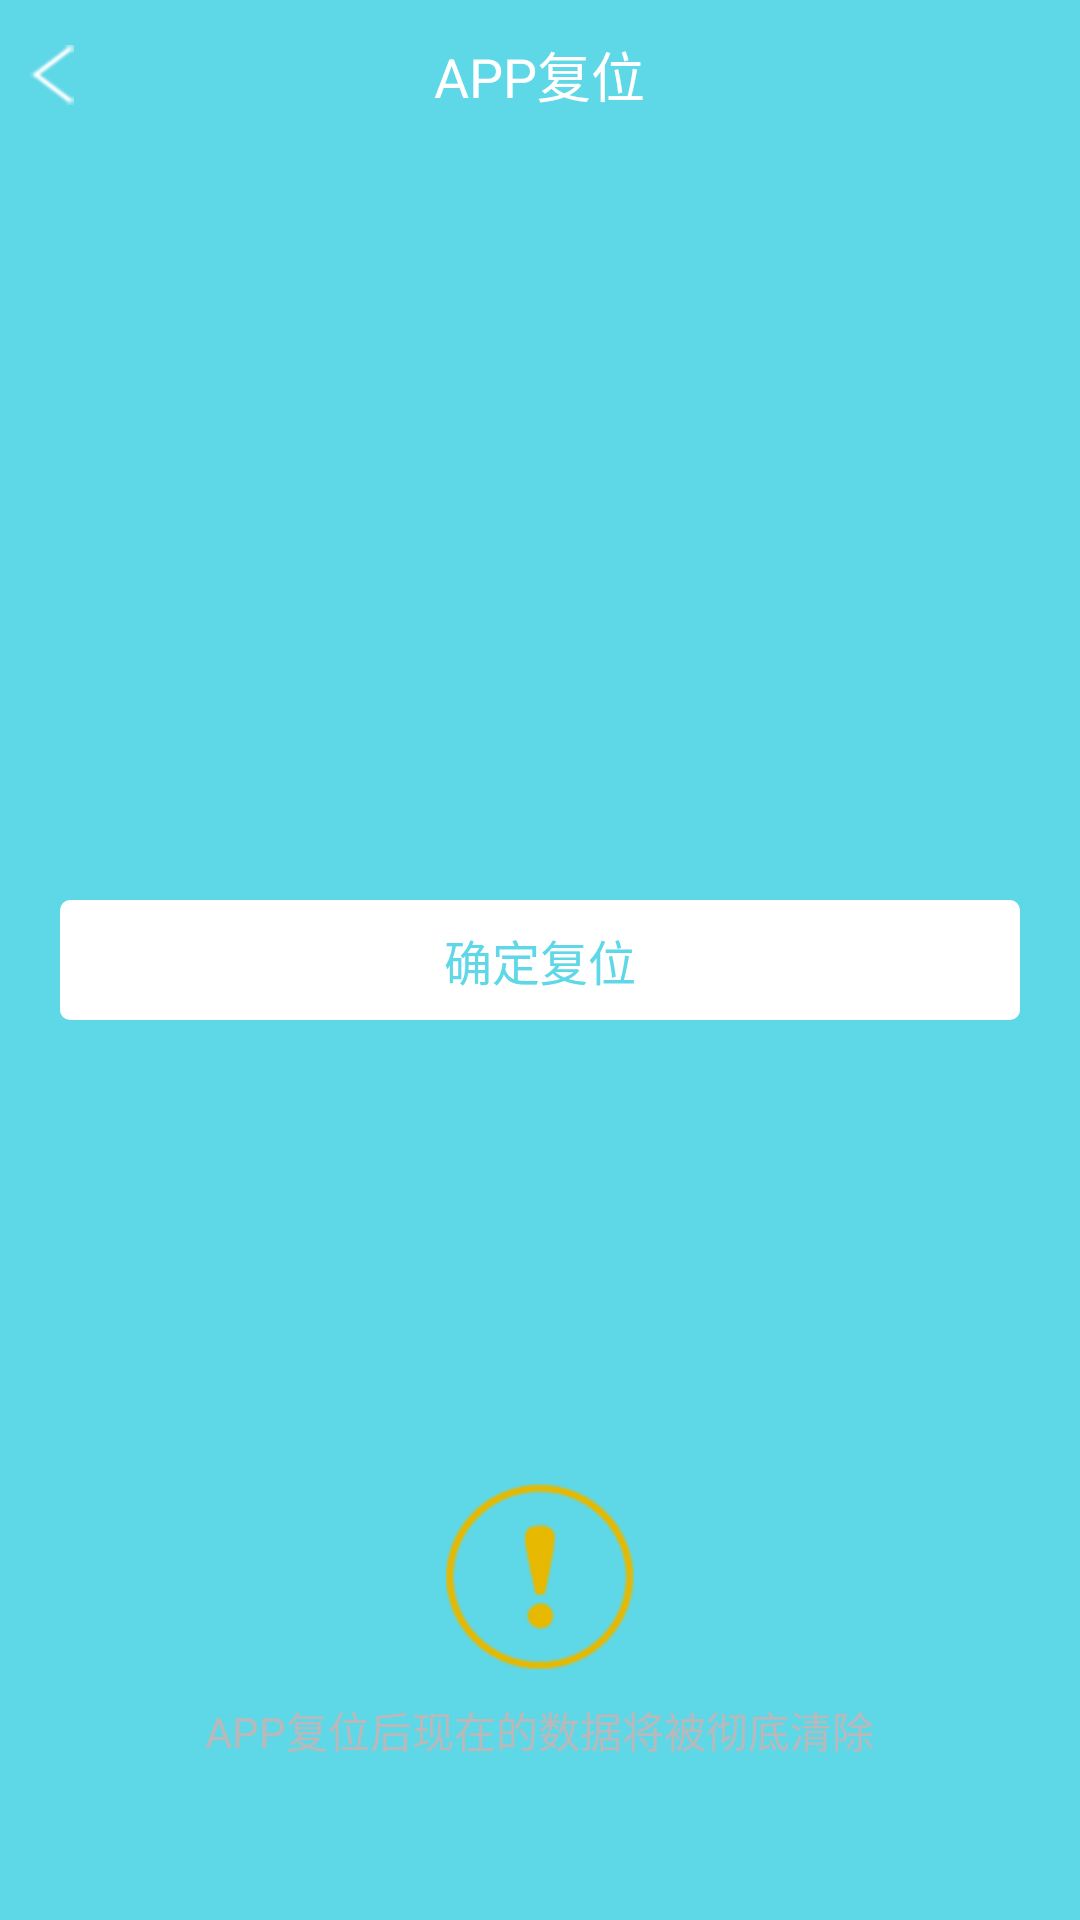

Icons on this 1080 × 1920 Android screen, each with the point to tap as (x,y):
back: (52,75)
error: (540,1576)
